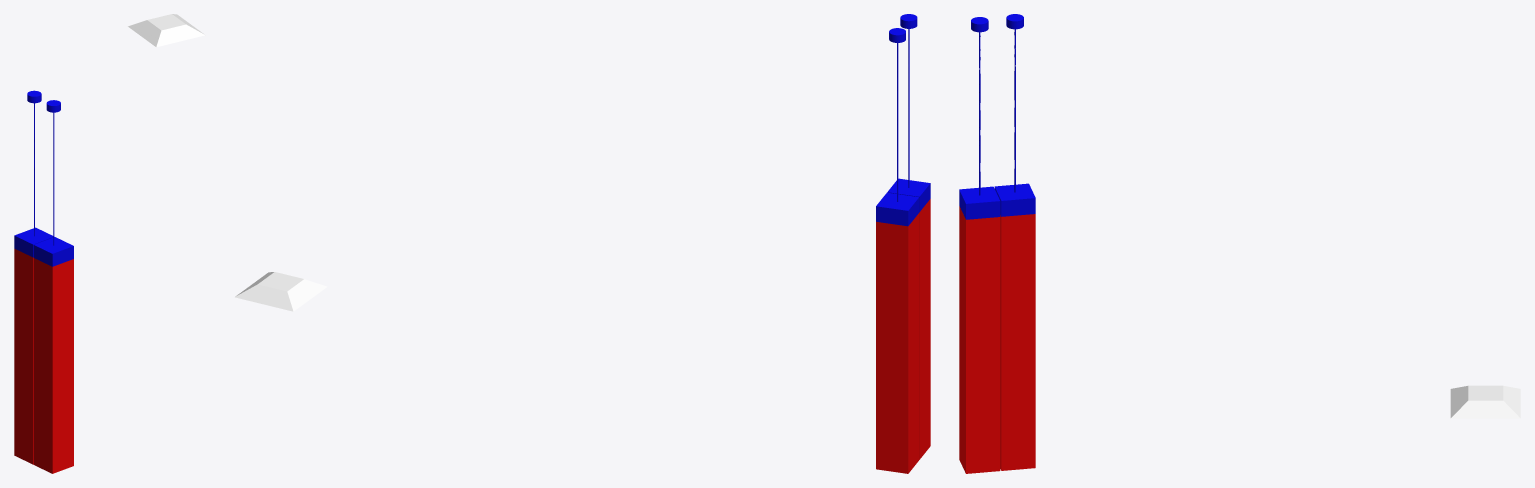
File: equipment.glb
3 views of the same model, side by side, from view 1: azimuth 30°, elevation 25°; view 2: azimuth 150°, elevation 25°; view 3: azimuth 270°, elevation 25° (orthographic). The views are drawn at different scales.
Visible parts, largest first — view 1: layer:equipment; view 2: layer:equipment; view 3: layer:equipment.
Boxes of the visible parts, x1,y1,x2,y2 form: layer:equipment: [14, 14, 205, 473]; layer:equipment: [235, 14, 930, 473]; layer:equipment: [959, 14, 1520, 473].
Size of the model in its own units: 4.48 by 4.27 by 4.88.
